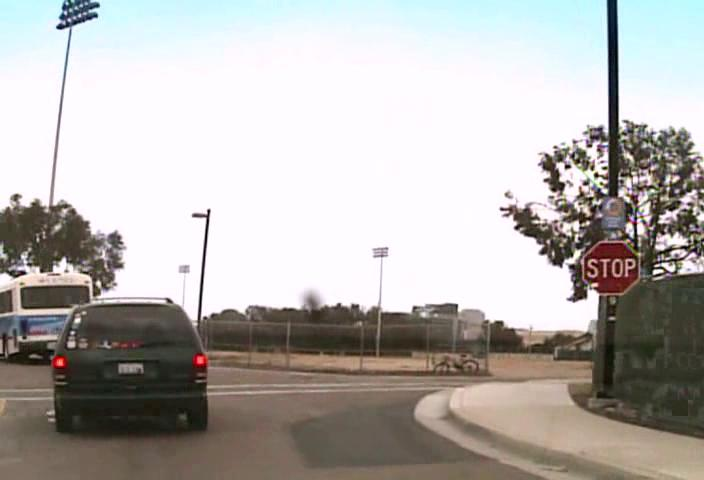stop: (582, 239, 640, 295)
